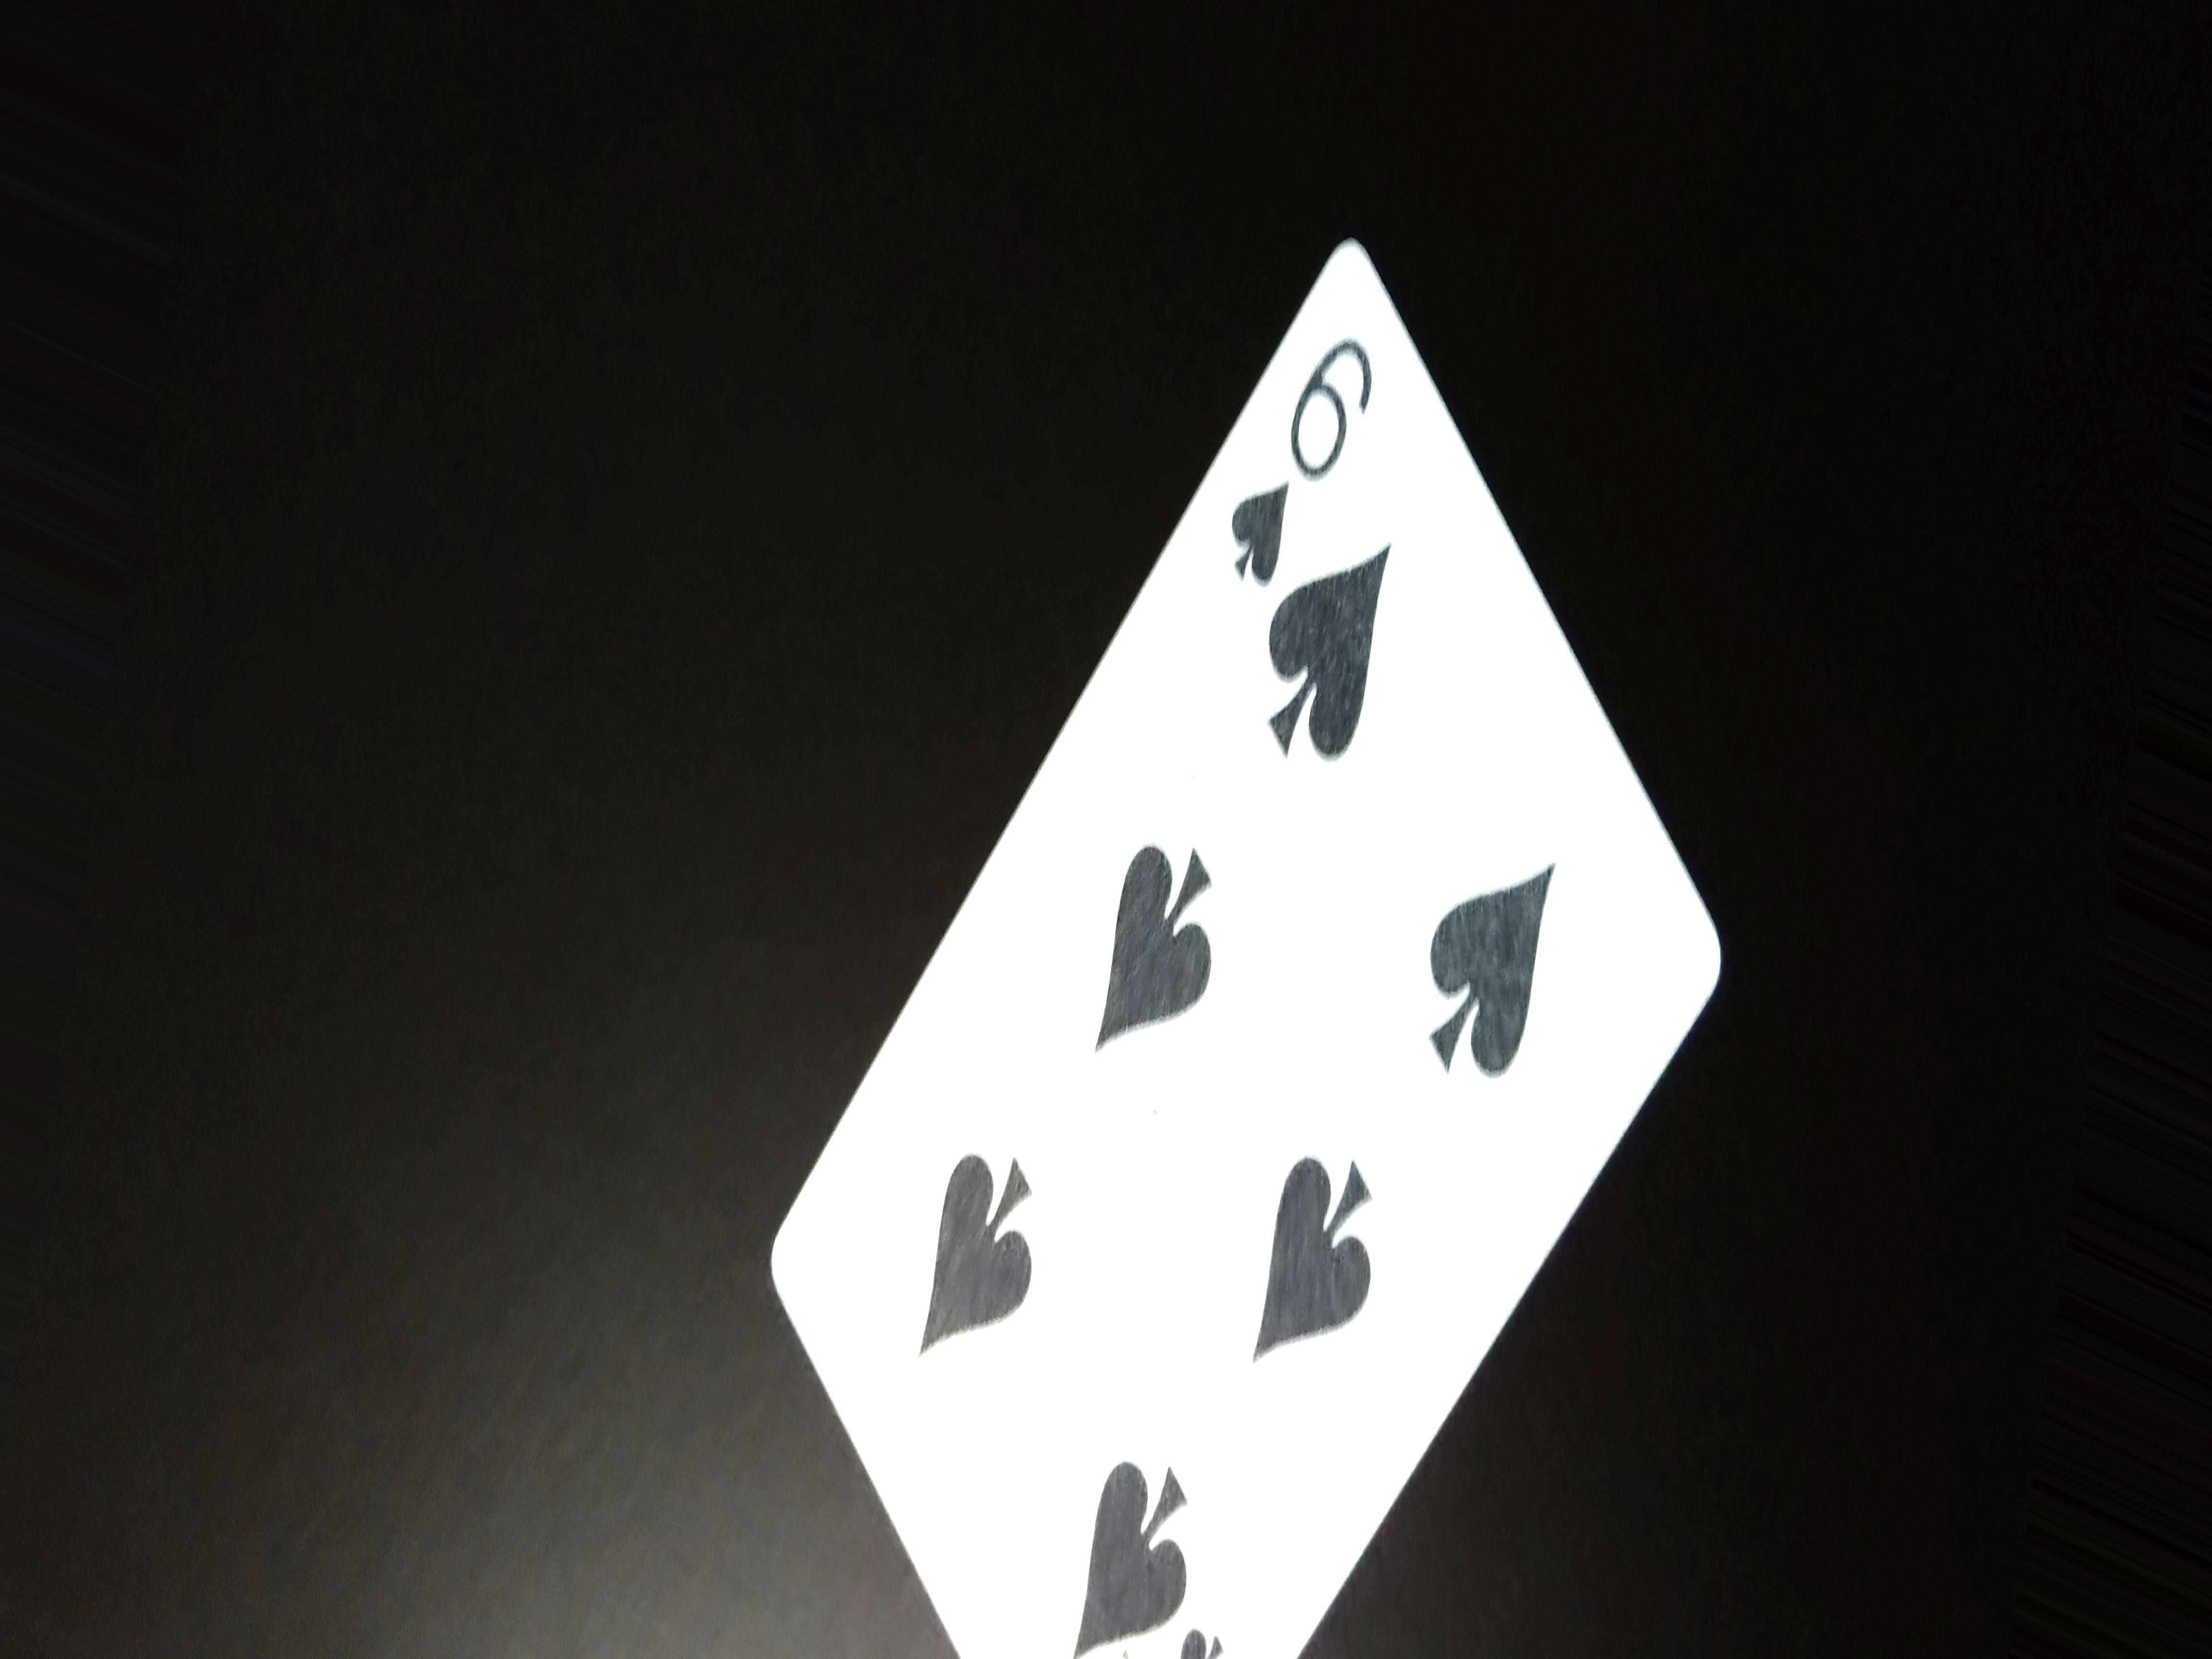6S: (1209, 319, 1388, 606)
